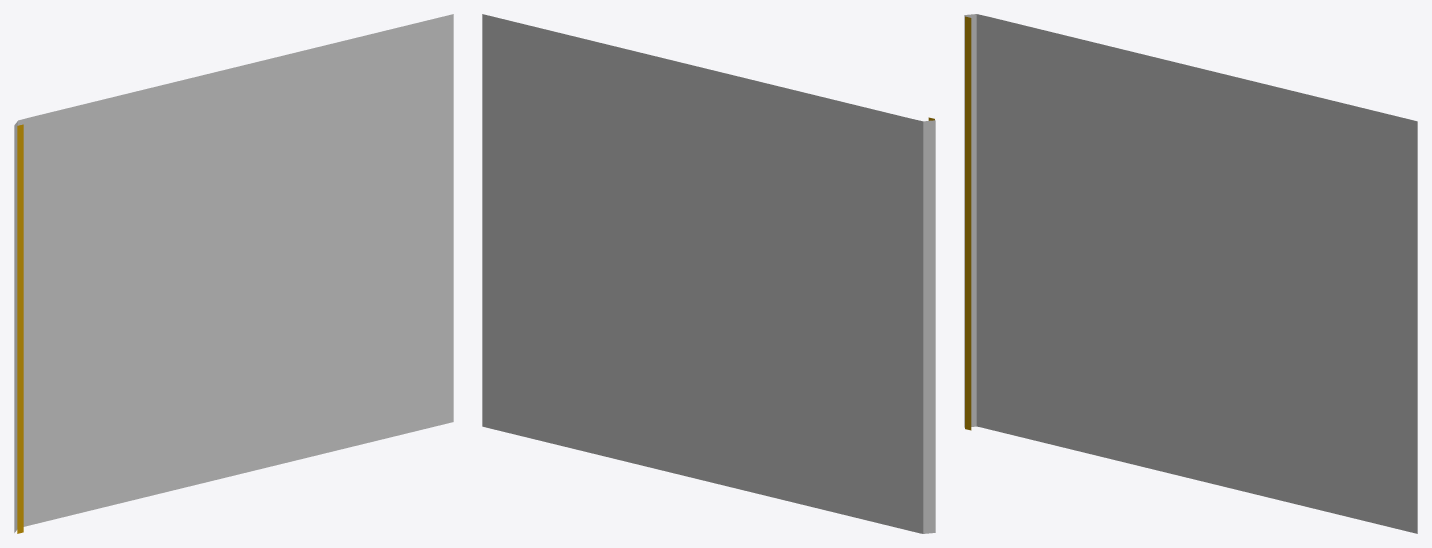
The picture shows the model from 3 angles, left to right: view 1: azimuth 30°, elevation 25°; view 2: azimuth 150°, elevation 25°; view 3: azimuth 330°, elevation 25°; orthographic projection.
Parts seen in each view (by area): view 1: 0257477B4590DB27B4460DB9F2BA0C51; view 2: 0257477B4590DB27B4460DB9F2BA0C51; view 3: 0257477B4590DB27B4460DB9F2BA0C51.
Boxes of the visible parts, x1,y1,x2,y2 form: 0257477B4590DB27B4460DB9F2BA0C51: (14, 14, 453, 533); 0257477B4590DB27B4460DB9F2BA0C51: (482, 14, 935, 533); 0257477B4590DB27B4460DB9F2BA0C51: (964, 14, 1417, 533).
Bounding box in the file's own units: 1.34 × 61.44 × 53.97.
